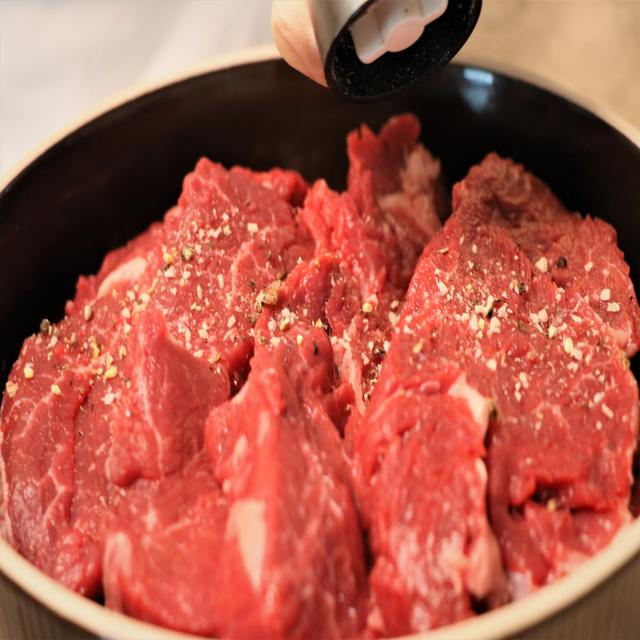beef: (208, 243, 490, 480)
